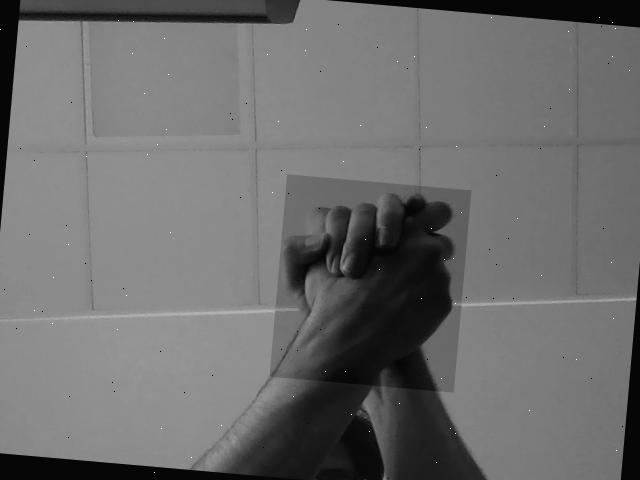friend: (273, 186, 463, 390)
